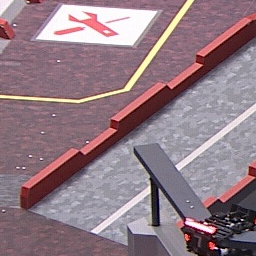Red: (183, 229, 215, 249)
Robot: (176, 205, 255, 256)
